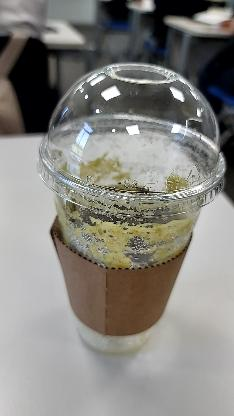Plastic Cup: (36, 62, 228, 356), (36, 62, 224, 218)
